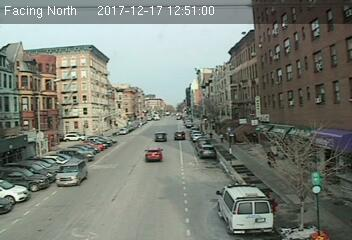car: (54, 159, 88, 188), (144, 147, 164, 162), (199, 146, 217, 159), (153, 132, 168, 143), (173, 131, 186, 141)
police: (215, 181, 274, 236)
